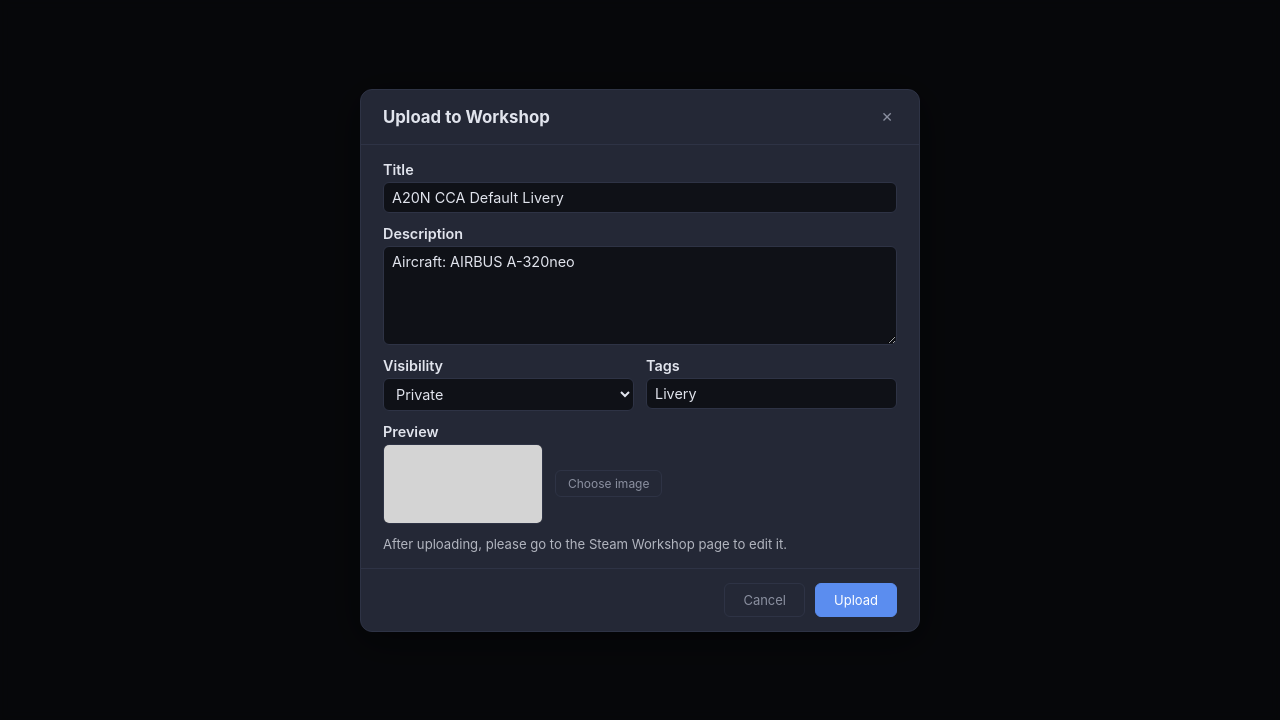
UploadLiveryDialog › keeps the typed input on error so the user can retry
Step 1. Replace the text in the field showing "A20N CCA Default Livery" with "My custom title" → (640,197), box 383,182 -> 897,212
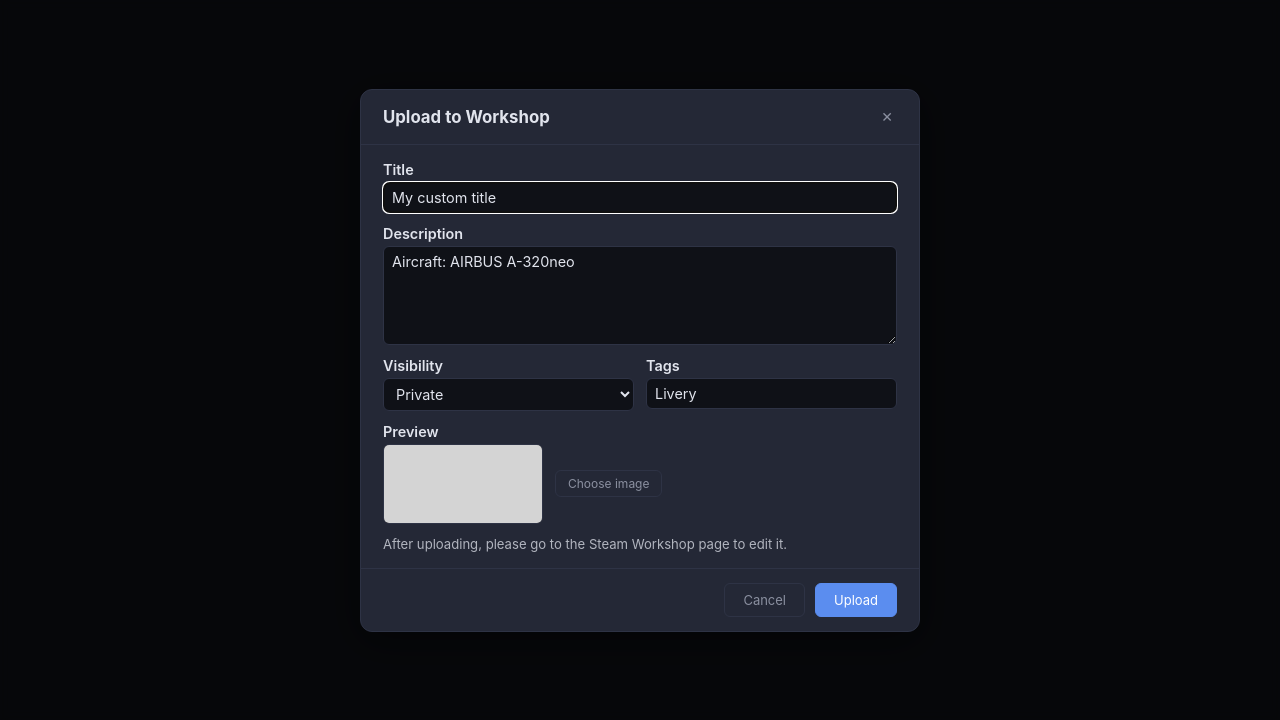
Step 2. Click the button "Upload" → (856,600), box 815,582 -> 897,616
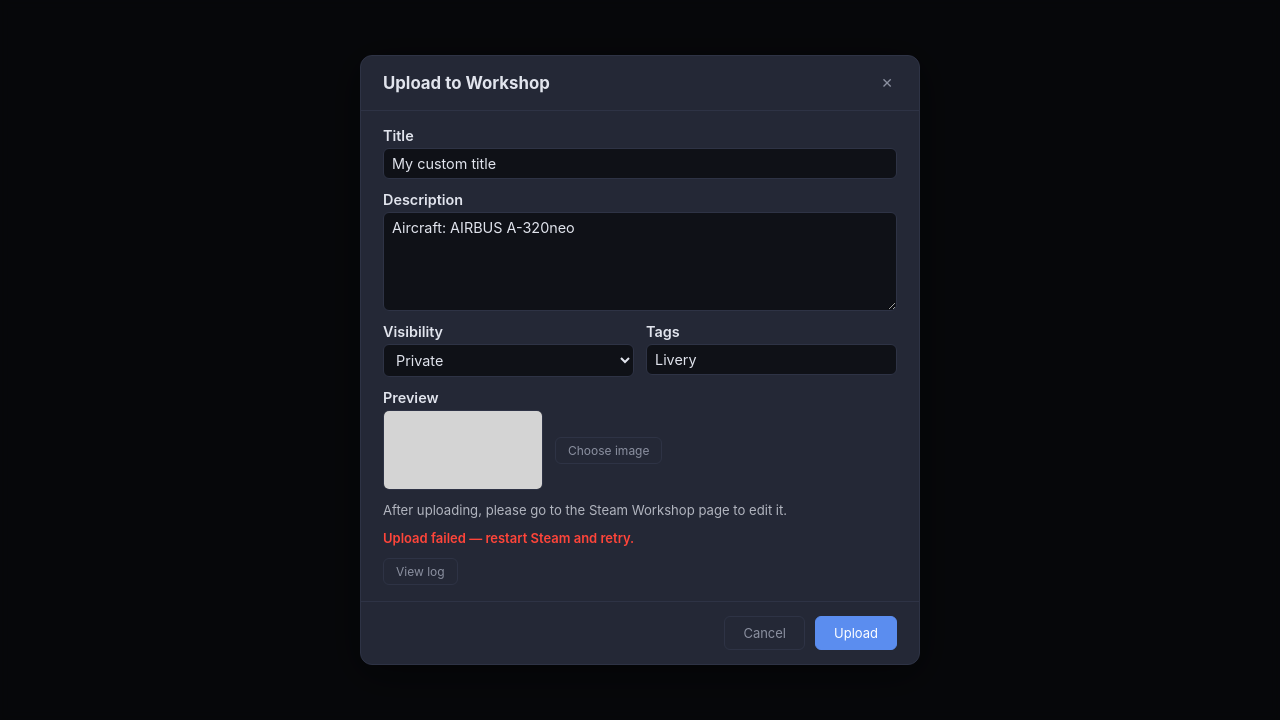
Result: the text "Upload failed — restart Steam and retry." is shown at 383,530 -> 634,546
Step 3. Click the button "Upload" → (856,633), box 815,616 -> 897,650
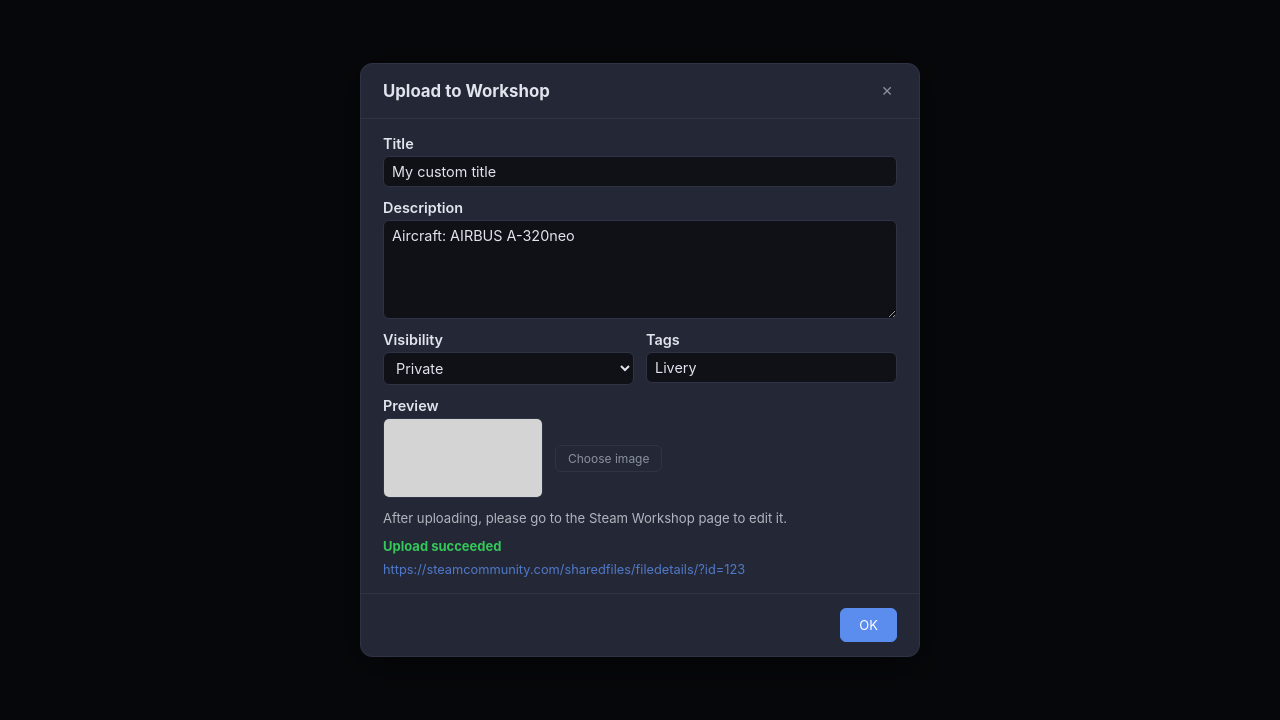
Result: the text "Upload succeeded" is shown at 383,538 -> 502,554
